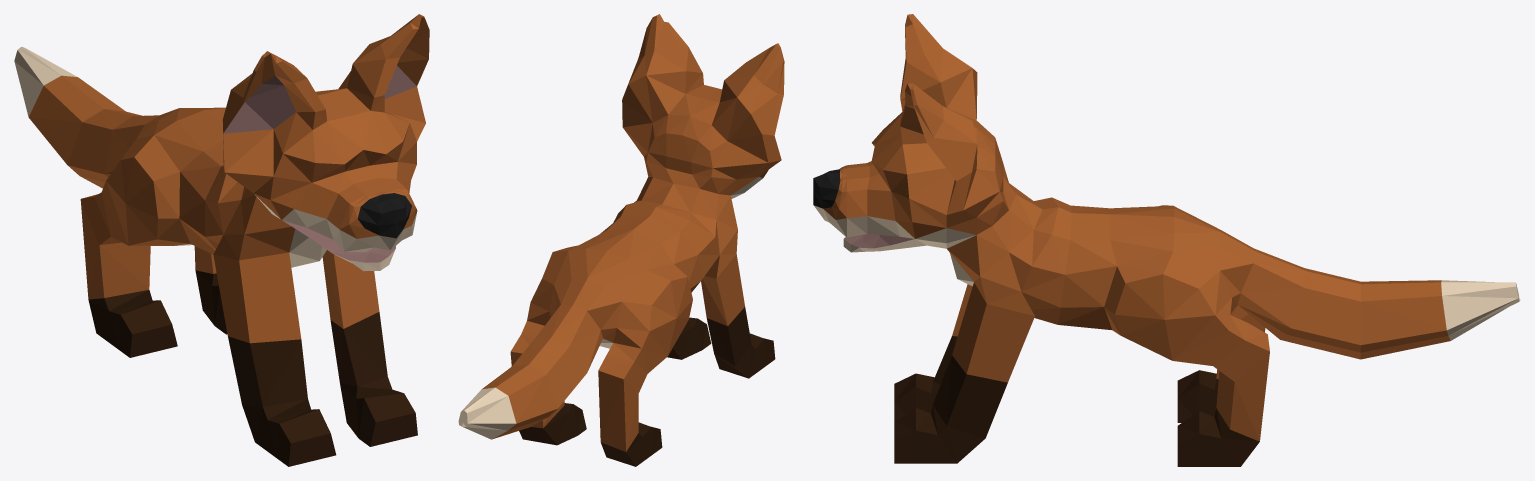
The model's file is fox.fbx.
The picture shows the model from 3 angles, left to right: view 1: azimuth 30°, elevation 25°; view 2: azimuth 150°, elevation 25°; view 3: azimuth 270°, elevation 25°; orthographic projection. The views are drawn at different scales.
Parts seen in each view (by area): view 1: Cube.001; view 2: Cube.001; view 3: Cube.001.
Part boxes in pixels (x1,y1,x2,y2): Cube.001: (14, 14, 429, 466); Cube.001: (458, 14, 784, 466); Cube.001: (813, 14, 1520, 466).
Bounding box in the file's own units: 4951 × 9656 × 16060.
